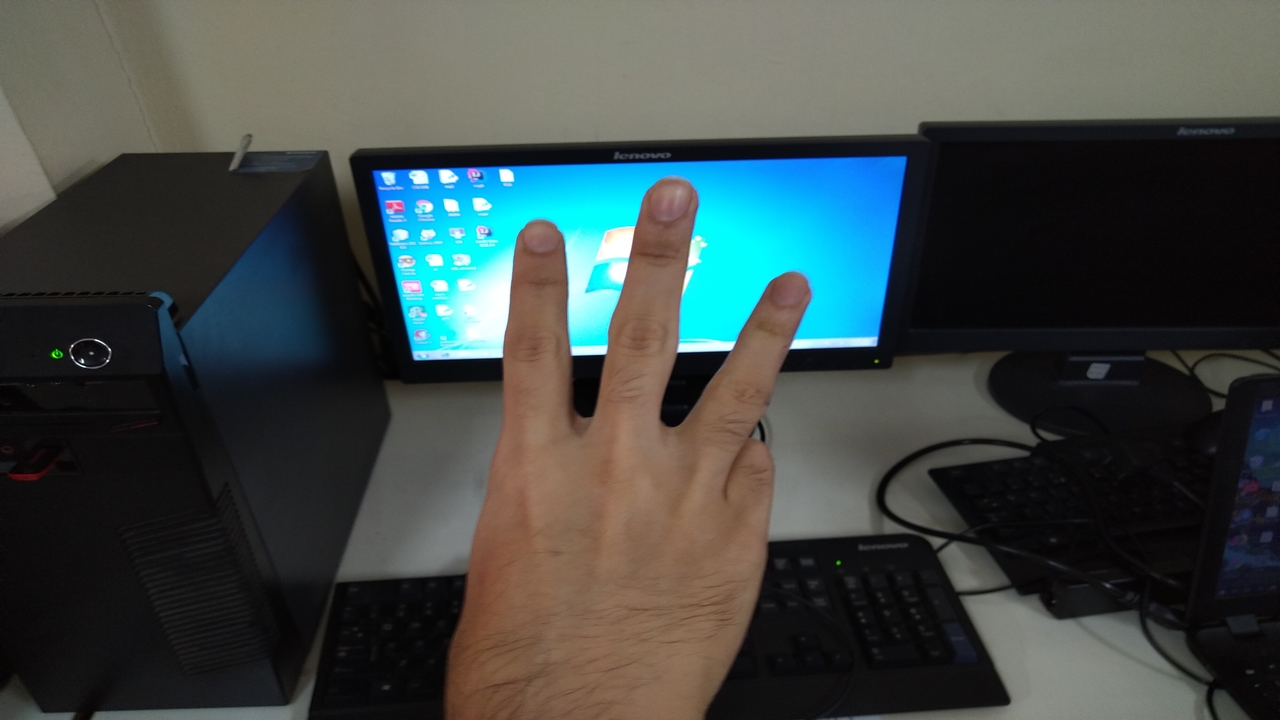fingertip: (634, 170, 704, 234), (750, 268, 814, 322), (506, 216, 568, 270)
